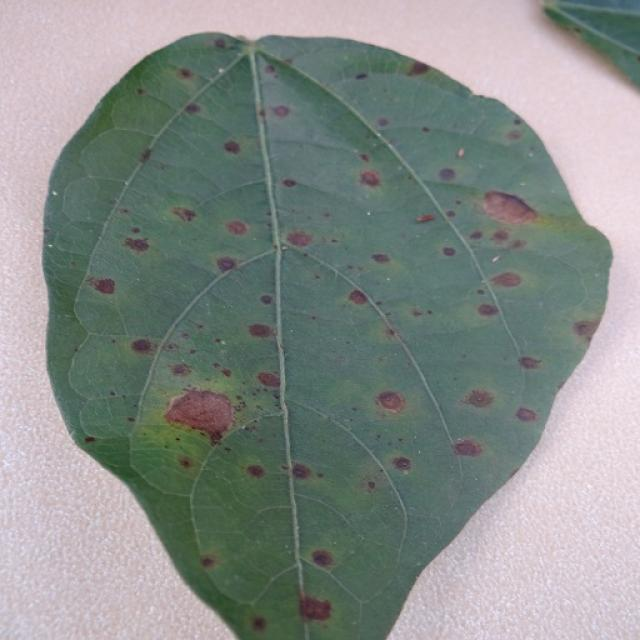Anthracnose: (299, 593, 332, 621), (376, 390, 405, 413), (462, 389, 495, 409), (573, 318, 600, 340), (283, 226, 313, 245), (453, 439, 484, 457), (490, 272, 522, 288), (89, 277, 116, 295), (123, 236, 150, 253), (130, 338, 156, 354), (257, 371, 280, 388), (311, 550, 334, 567), (172, 206, 196, 222), (248, 323, 273, 338), (291, 463, 313, 480), (215, 257, 238, 273), (359, 170, 380, 187), (225, 220, 248, 235), (515, 407, 538, 422), (518, 356, 542, 370), (390, 457, 412, 472), (347, 290, 368, 305), (170, 362, 192, 376), (477, 303, 499, 316), (437, 167, 456, 182), (409, 61, 429, 75), (270, 105, 290, 118), (209, 430, 225, 446), (223, 140, 241, 154), (246, 465, 265, 478), (491, 230, 510, 243), (200, 555, 217, 568), (139, 148, 153, 163), (505, 129, 523, 140), (183, 103, 201, 114), (252, 616, 266, 630), (371, 253, 390, 263), (178, 68, 193, 79), (178, 457, 193, 468), (415, 215, 435, 223), (556, 376, 568, 389), (259, 294, 273, 305), (213, 38, 227, 49), (509, 466, 521, 478), (442, 247, 456, 257), (282, 178, 296, 188), (469, 230, 483, 240), (385, 327, 397, 338), (376, 117, 389, 127), (411, 308, 425, 317), (264, 64, 276, 74), (359, 153, 370, 163), (355, 72, 368, 80), (221, 368, 231, 377), (84, 436, 96, 443), (457, 148, 465, 158), (367, 481, 376, 489), (136, 87, 145, 95), (421, 126, 430, 133), (513, 118, 522, 125), (131, 227, 141, 233), (573, 27, 581, 33), (215, 338, 222, 344), (175, 436, 180, 441), (638, 56, 640, 63)
Blackgram: (41, 31, 614, 639)
